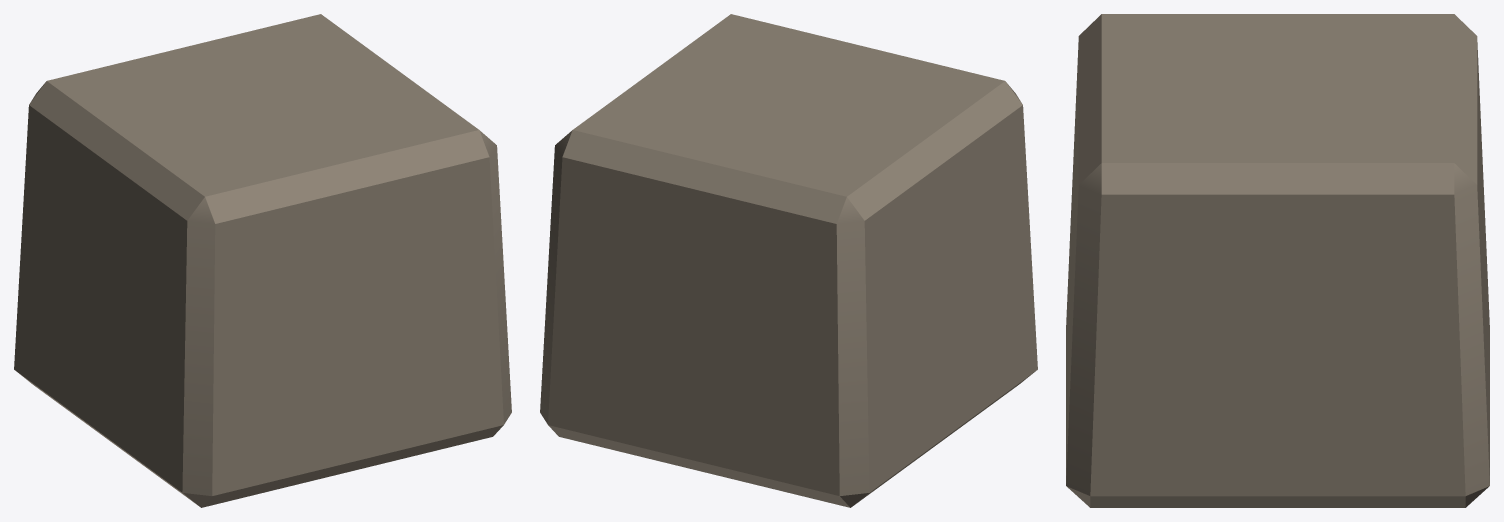
File: terrain_stone.glb
3 renders of one model, left to right at view 1: azimuth 30°, elevation 25°; view 2: azimuth 150°, elevation 25°; view 3: azimuth 270°, elevation 25°, orthographic. The views are drawn at different scales.
Parts seen in each view (by area): view 1: terrain_stone; view 2: terrain_stone; view 3: terrain_stone.
Boxes of the visible parts, x1,y1,x2,y2 form: terrain_stone: (14, 14, 511, 507); terrain_stone: (540, 14, 1037, 507); terrain_stone: (1066, 14, 1489, 507).
Bounding box in the file's own units: 0.96 × 0.85 × 0.96.
